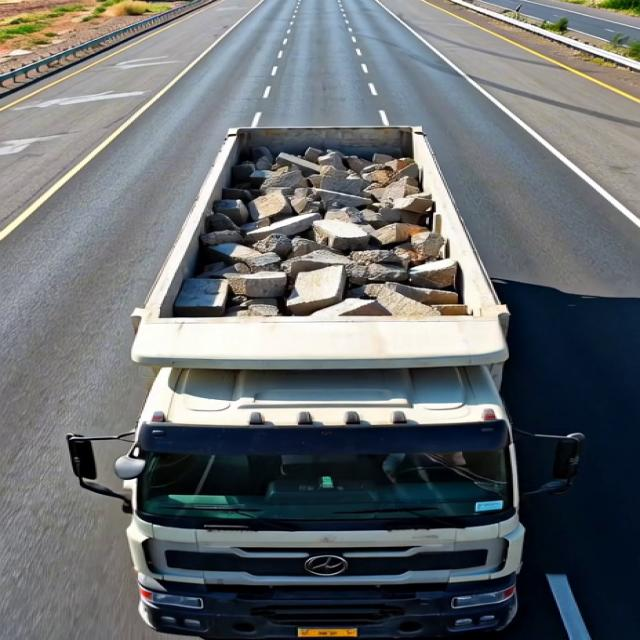Box: (142, 122, 518, 358)
Truck: (63, 92, 553, 628)
